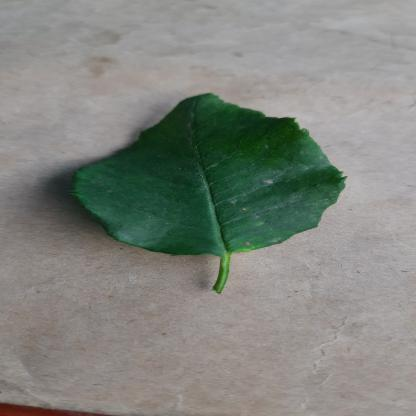normal: (59, 92, 356, 256)
